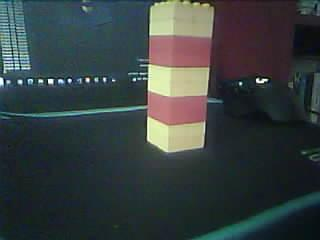lego: (146, 1, 214, 153)
